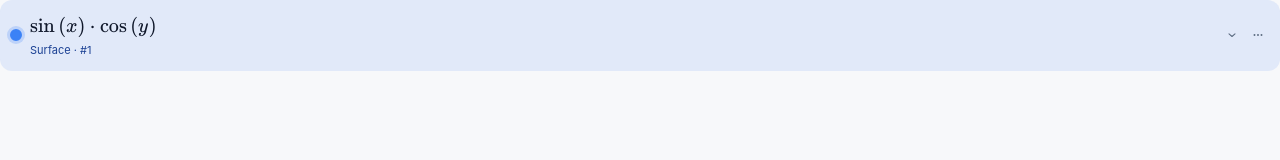
keeps populated object actions focused on removal instead of resetting its definition
Click the button named "Object actions": click(1258, 35) 1246,21 -> 1270,49
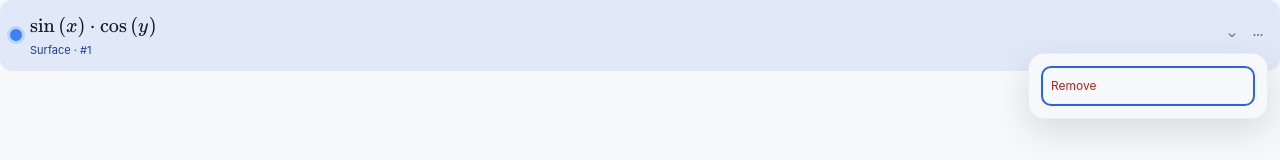
Expected: the menu items read "Remove", in this order
Press Escape in the menu item "Remove", box 1041,66 -> 1255,106
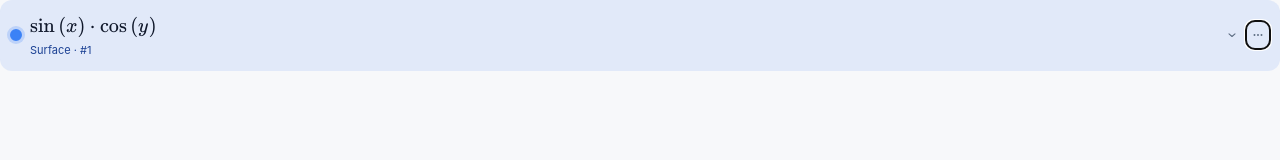
Expected: the menu is gone
